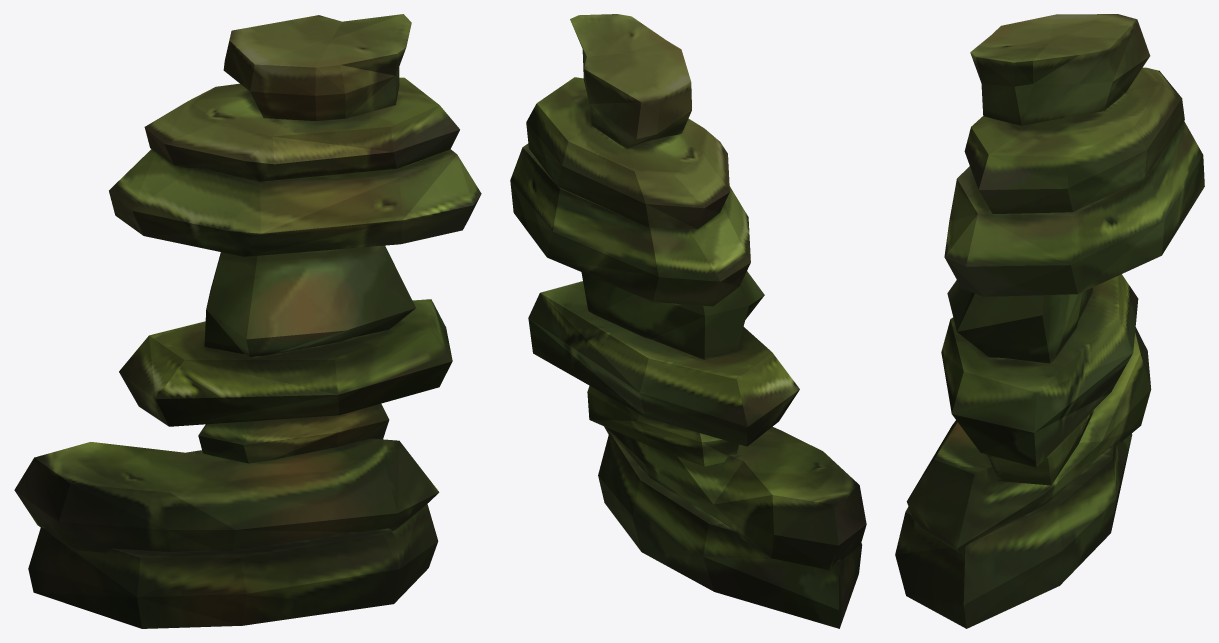
File: Swamp_shitou09.FBX
3 renders of one model, left to right at view 1: azimuth 30°, elevation 25°; view 2: azimuth 150°, elevation 25°; view 3: azimuth 270°, elevation 25°, orthographic. The views are drawn at different scales.
Visible parts, largest first — view 1: shitou09; view 2: shitou09; view 3: shitou09.
Part boxes in pixels (x1,y1,x2,y2): shitou09: [14, 14, 481, 628]; shitou09: [510, 14, 866, 628]; shitou09: [895, 14, 1204, 628].
Bounding box in the file's own units: 169 × 224 × 110.
